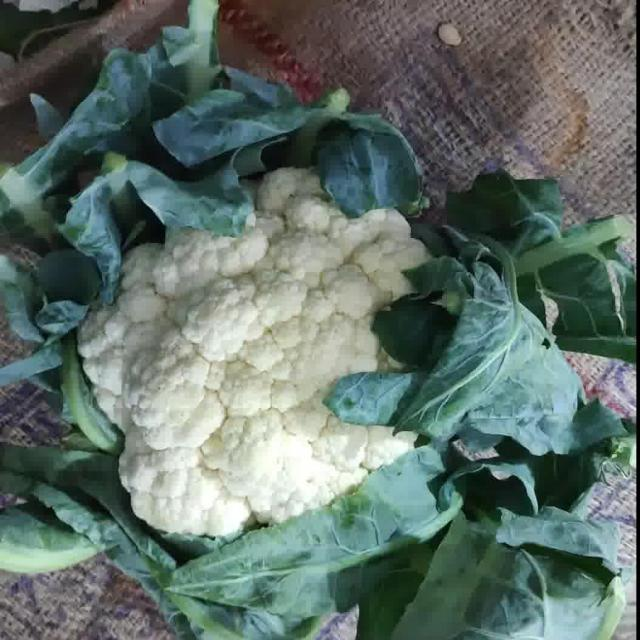Cauliflower: (69, 160, 465, 540)
